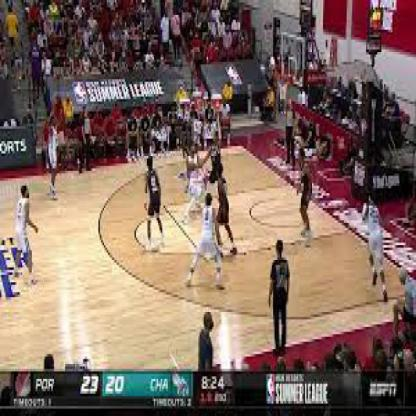rim: (277, 74, 290, 87)
